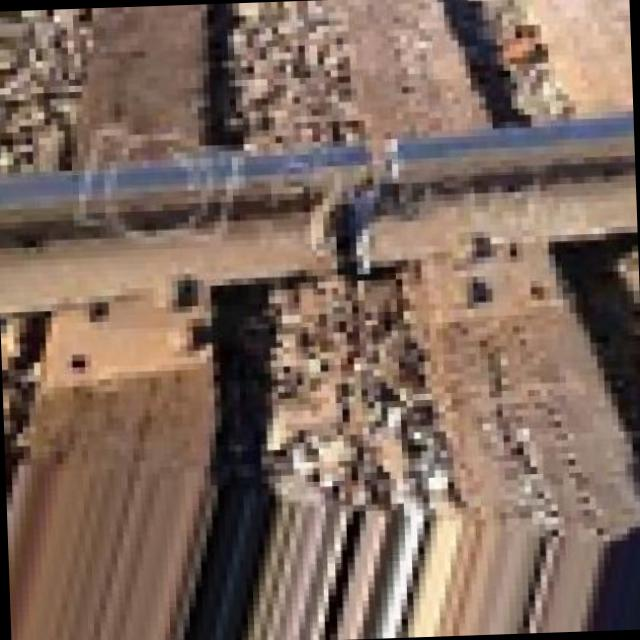defective: (0, 29, 610, 448)
